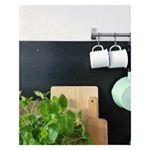cups: (87, 43, 110, 71), (107, 44, 129, 71)
